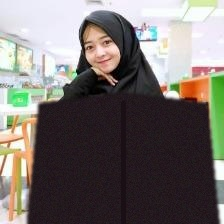Cadar_Niqab: (27, 4, 219, 224)
